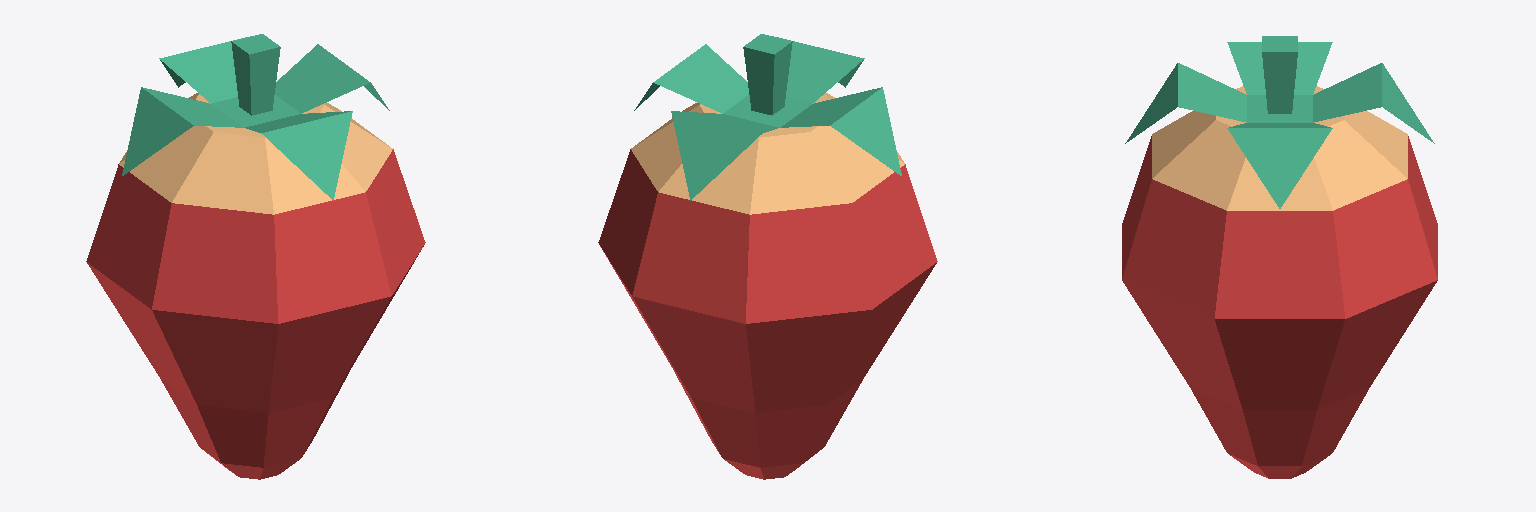
Rendered from strawberry.obj.
3 renders of one model, left to right at view 1: azimuth 30°, elevation 25°; view 2: azimuth 150°, elevation 25°; view 3: azimuth 270°, elevation 25°, orthographic.
Parts seen in each view (by area): view 1: strawberry; view 2: strawberry; view 3: strawberry.
Part boxes in pixels (bbox=[...]): strawberry: bbox=[86, 34, 425, 479]; strawberry: bbox=[598, 34, 937, 479]; strawberry: bbox=[1122, 36, 1437, 478].
Size of the model in its own units: 0.1197 by 0.177 by 0.1197.